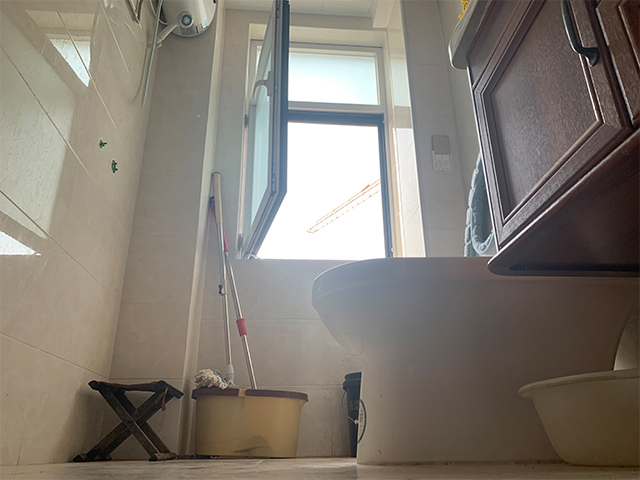closestool: (311, 147, 640, 467)
stool: (72, 378, 185, 463)
